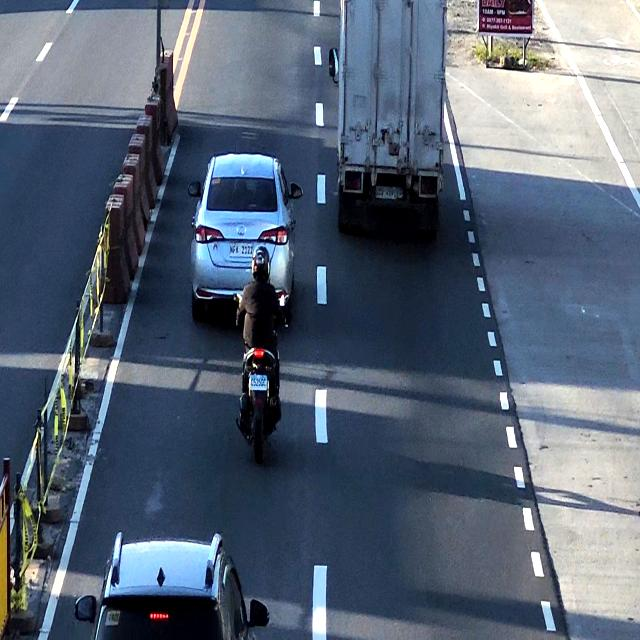Car: (191, 152, 300, 318), (98, 536, 255, 640)
License-Plate: (375, 181, 405, 203), (228, 242, 257, 257), (246, 373, 268, 391)
Motorcycle: (238, 248, 283, 460)
Truck: (336, 0, 444, 229)
